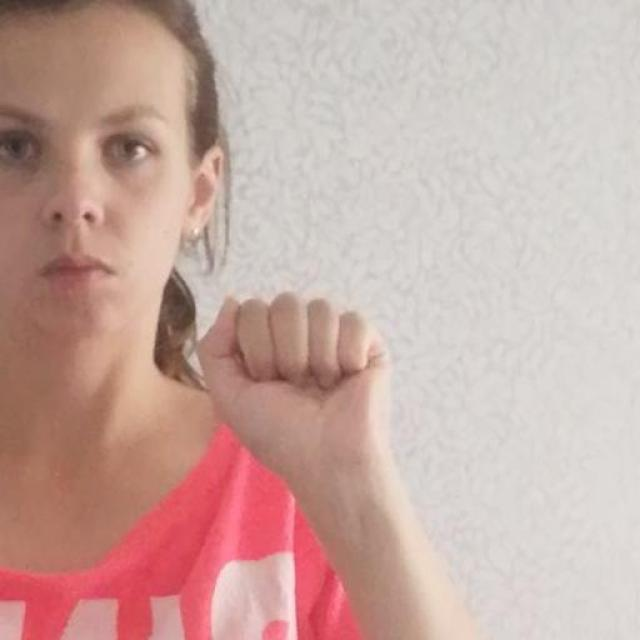hand: (196, 289, 394, 489)
